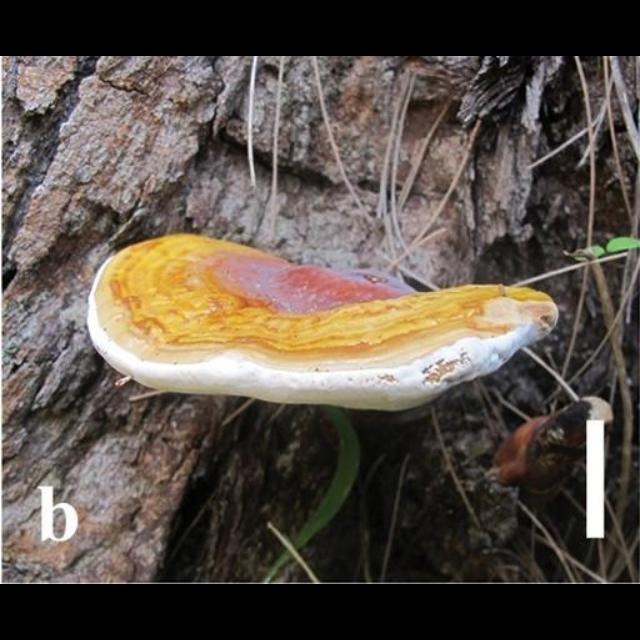ganoderma: (85, 231, 561, 416)
